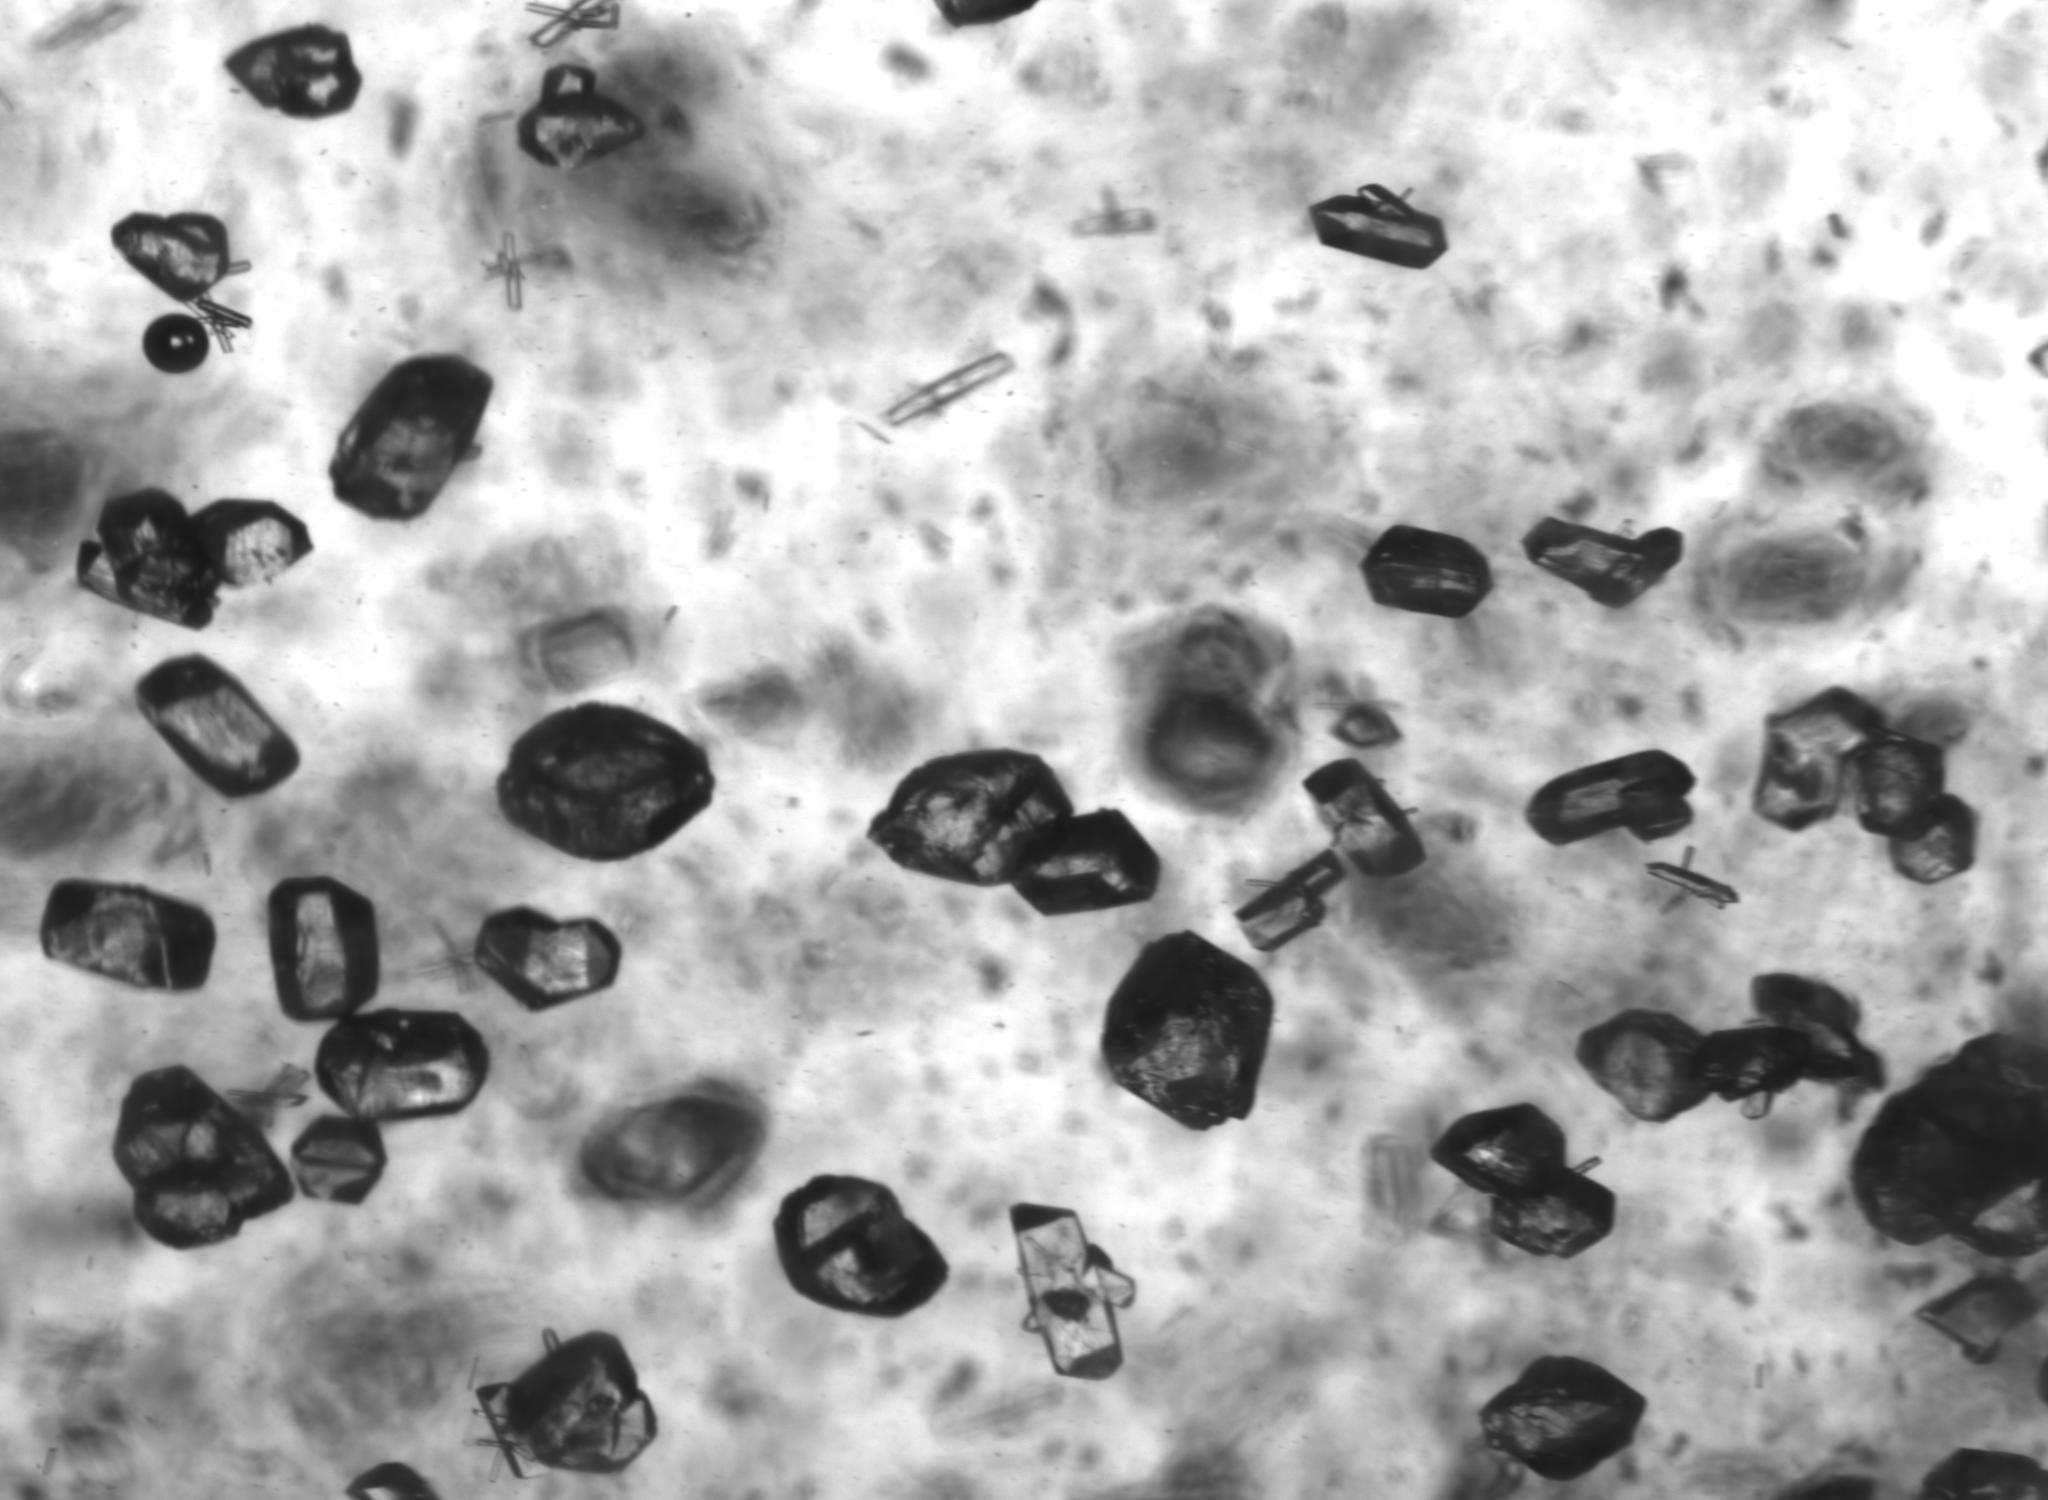bubble: (143, 313, 210, 374)
crystal: (1851, 1032, 2048, 1258), (496, 703, 714, 861), (1100, 932, 1274, 1129), (76, 488, 313, 628), (113, 1067, 293, 1249), (868, 751, 1070, 886), (331, 355, 493, 520), (475, 1330, 657, 1475), (774, 1176, 948, 1317), (137, 654, 299, 797), (1011, 1204, 1135, 1379), (1838, 729, 1976, 884), (1479, 1355, 1646, 1481), (315, 1008, 488, 1121), (40, 880, 215, 991), (1754, 689, 1884, 829), (269, 876, 380, 1021), (1010, 810, 1161, 915), (1526, 751, 1695, 845), (474, 908, 622, 1010), (1577, 1010, 1709, 1121), (1698, 1024, 1854, 1118), (1523, 517, 1684, 608), (1304, 760, 1425, 876), (517, 64, 642, 169), (226, 24, 361, 118), (1431, 1104, 1566, 1195), (111, 213, 248, 302), (1361, 525, 1493, 617), (1309, 185, 1447, 269), (1488, 1168, 1616, 1258), (1916, 1271, 2040, 1363), (1235, 849, 1345, 953), (882, 352, 1014, 426), (288, 1115, 386, 1204), (1918, 1449, 2048, 1500), (525, 0, 620, 49), (1646, 861, 1740, 907), (345, 1462, 439, 1500), (188, 296, 251, 350)
